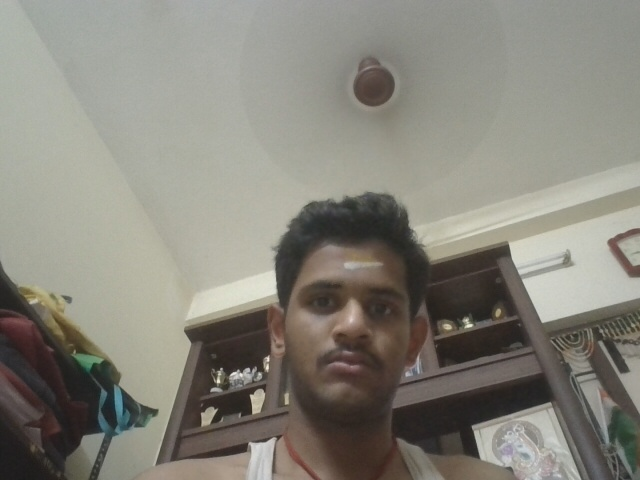real: (270, 236, 436, 402)
